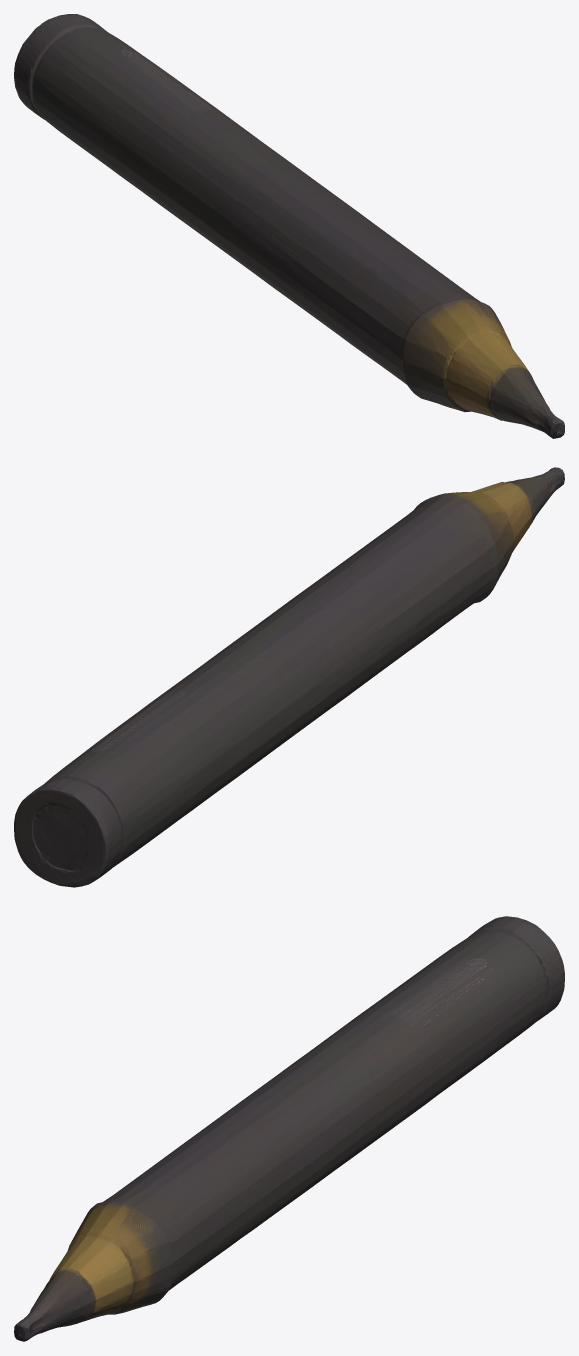
3 views of the same model, one above another, from view 1: azimuth 30°, elevation 25°; view 2: azimuth 150°, elevation 25°; view 3: azimuth 330°, elevation 25° (orthographic).
Visible parts, largest first — view 1: pen_32.obj; view 2: pen_32.obj; view 3: pen_32.obj.
Part boxes in pixels (bbox=[...]): pen_32.obj: bbox=[14, 14, 564, 438]; pen_32.obj: bbox=[14, 467, 564, 887]; pen_32.obj: bbox=[14, 916, 564, 1341].
Bounding box in the file's own units: 0.0207 × 0.0213 × 0.19.
Materials: 1 (1 with a texture image).
